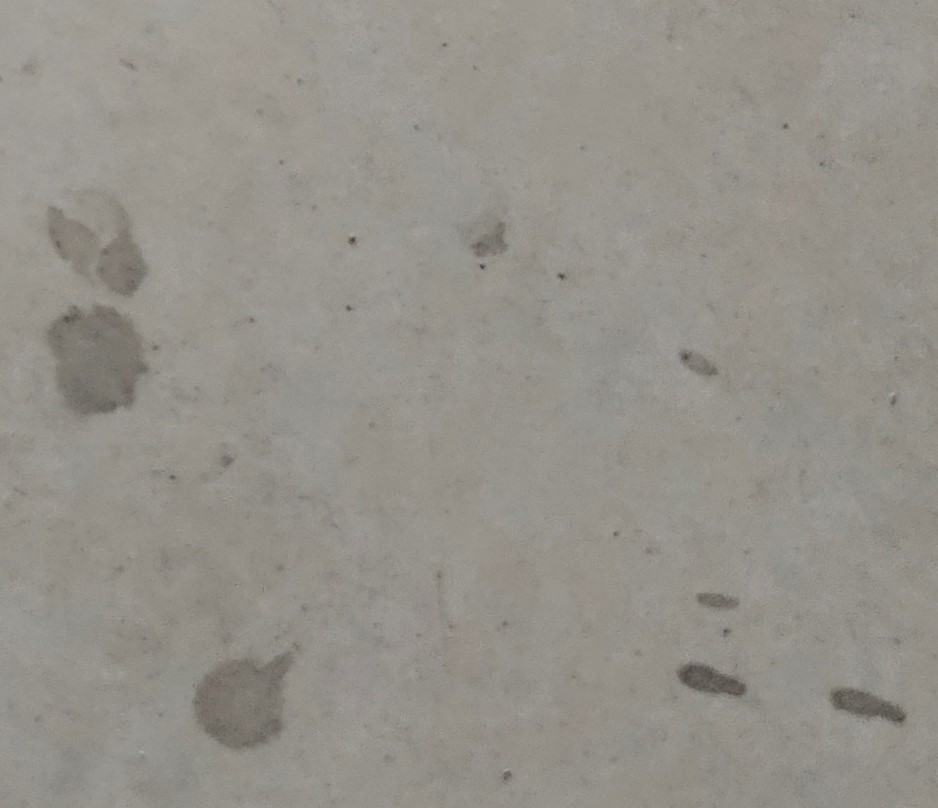grey spot: (48, 303, 147, 414), (191, 652, 295, 750), (48, 203, 149, 294), (829, 688, 905, 725), (678, 663, 747, 697), (470, 220, 507, 256), (678, 350, 718, 376), (699, 595, 740, 609)
